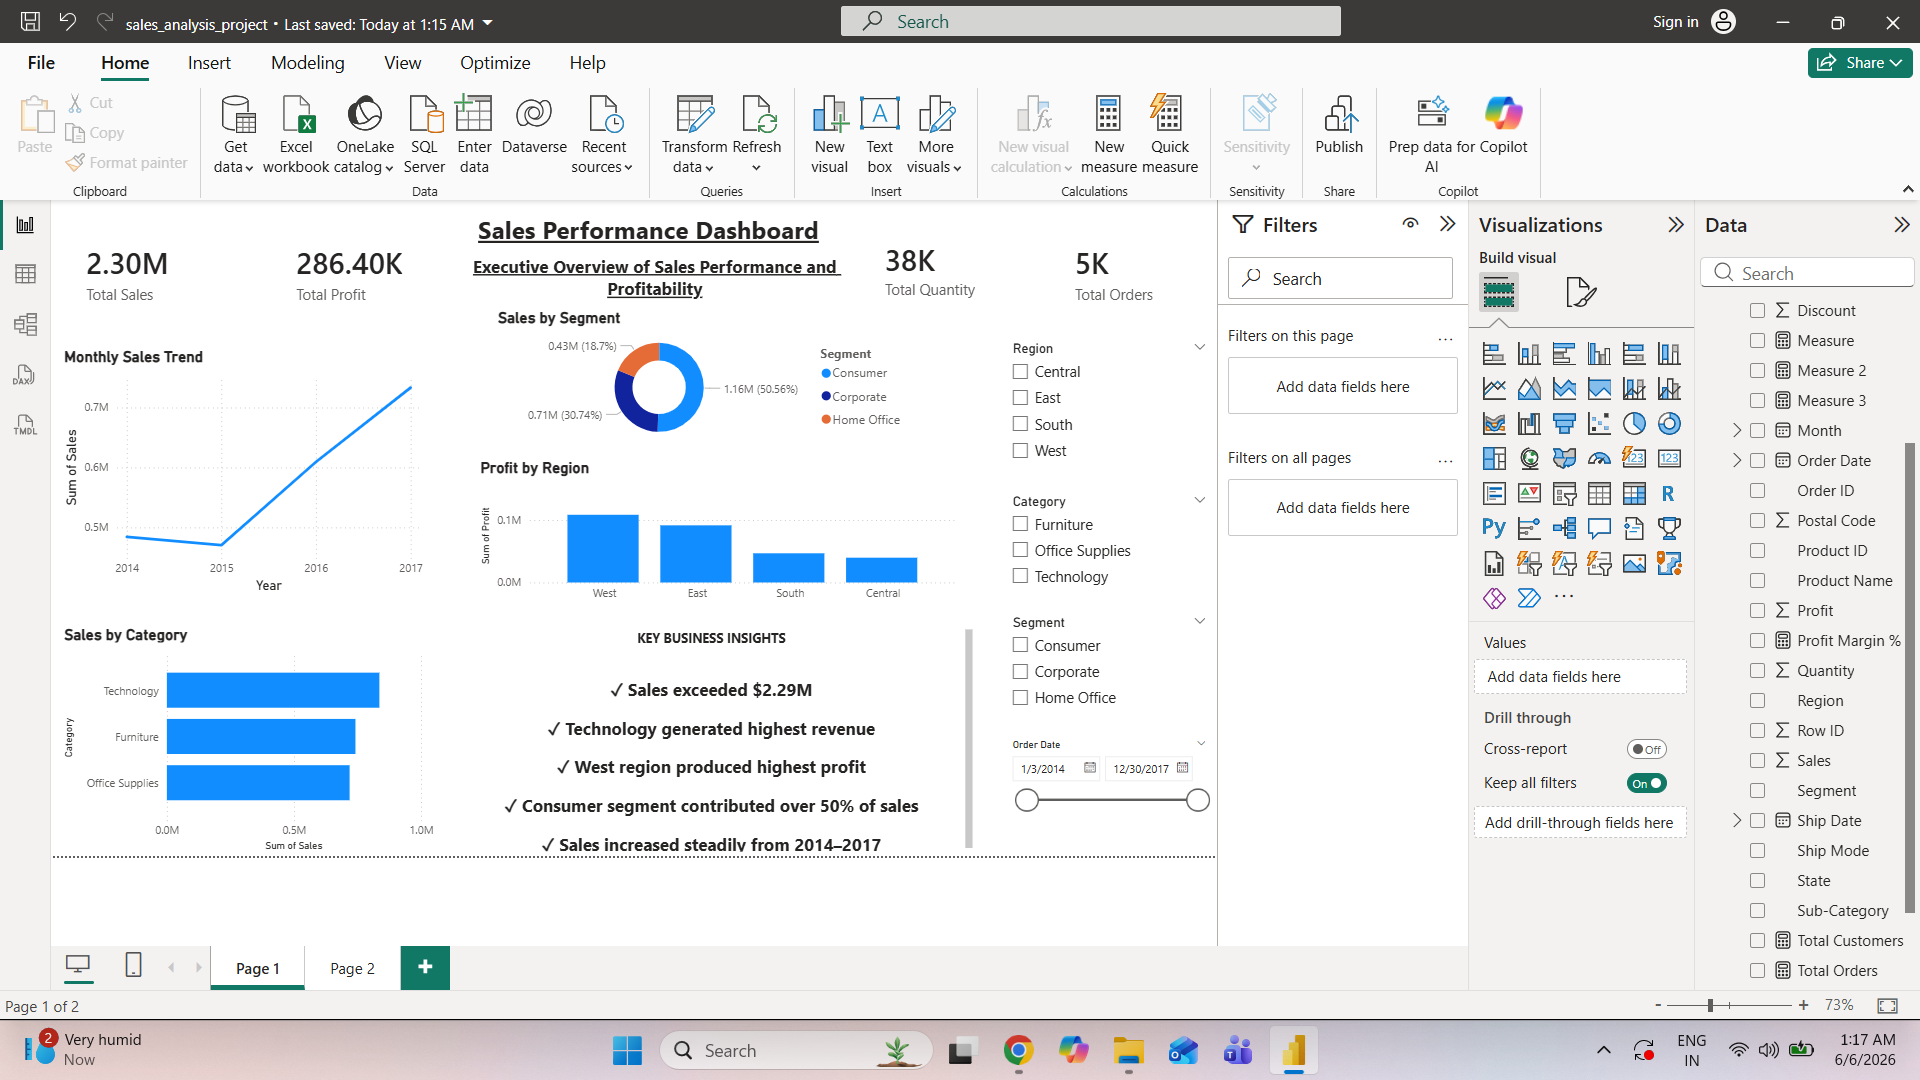

The dashboard page shown, as its layout file describes it:
{"tool":"powerbi","page":{"name":"Page 1","canvas":[1280,720],"ordinal":0},"visuals":[{"type":"cardVisual","fields":{"Data":["cleaned_sales_data.Total Sales"]},"box":[9.6,0,185.2,161.9],"z":0},{"type":"cardVisual","fields":{"Data":["cleaned_sales_data.Total Profit"]},"box":[240.1,0,185.2,161.9],"z":1000},{"type":"cardVisual","fields":{"Data":["cleaned_sales_data.Total Quantity"]},"box":[886.5,9.6,179.8,133.1],"z":2000},{"type":"cardVisual","fields":{"Data":["cleaned_sales_data.Total Orders"]},"box":[1095,0,185.2,161.9],"z":3000},{"type":"textbox","box":[425.4,9.6,461.1,65.9],"z":4000},{"type":"lineChart","title":"Monthly Sales Trend","fields":{"Category":["cleaned_sales_data.Order Date.Variation.Date Hierarchy.Year","cleaned_sales_data.Order Date.Variation.Date Hierarchy.Quarter","cleaned_sales_data.Order Date.Variation.Date Hierarchy.Month","cleaned_sales_data.Order Date.Variation.Date Hierarchy.Day"],"Y":["Sum(cleaned_sales_data.Sales)"]},"box":[9.6,161.9,403.4,274.4],"z":5000},{"type":"clusteredBarChart","title":"Sales by Category","fields":{"Category":["cleaned_sales_data.Category"],"Y":["Sum(cleaned_sales_data.Sales)"]},"box":[9.6,466.6,415.8,253.9],"z":6000},{"type":"columnChart","title":"Profit by Region","fields":{"Y":["Sum(cleaned_sales_data.Profit)"],"Category":["cleaned_sales_data.Region"]},"box":[466.6,284,533.8,166],"z":7000},{"type":"donutChart","title":"Sales by Segment","fields":{"Y":["Sum(cleaned_sales_data.Sales)"],"Category":["cleaned_sales_data.Segment"]},"box":[485.8,119.4,461.1,153.7],"z":8000},{"type":"slicer","fields":{"Values":["cleaned_sales_data.Region"]},"box":[1042.9,149.6,237.4,149.6],"z":9000},{"type":"slicer","fields":{"Values":["cleaned_sales_data.Order Date"]},"box":[1042.9,585.9,237.4,134.5],"z":10000},{"type":"slicer","fields":{"Values":["cleaned_sales_data.Category"]},"box":[1042.9,317,237.4,119.4],"z":11000},{"type":"slicer","fields":{"Values":["cleaned_sales_data.Segment"]},"box":[1042.9,450.1,237.4,135.8],"z":12000},{"type":"textbox","box":[440.5,466.6,576.3,253.9],"z":13000},{"type":"textbox","box":[413,54.9,499.5,64.5],"z":14000}]}

Visuals, with their boxes on the page's 1280x720 design canvas (x1, y1, x2, y2). These are canvas units, not pixel positions in the 1920x1080 screenshot, which may show the page scaled, cropped or inside an application window:
cardVisual - cleaned_sales_data.Total Sales: <region>10, 0, 195, 162</region>
cardVisual - cleaned_sales_data.Total Profit: <region>240, 0, 425, 162</region>
cardVisual - cleaned_sales_data.Total Quantity: <region>886, 10, 1066, 143</region>
cardVisual - cleaned_sales_data.Total Orders: <region>1095, 0, 1280, 162</region>
textbox: <region>425, 10, 886, 76</region>
"Monthly Sales Trend" lineChart: <region>10, 162, 413, 436</region>
"Sales by Category" clusteredBarChart: <region>10, 467, 425, 720</region>
"Profit by Region" columnChart: <region>467, 284, 1000, 450</region>
"Sales by Segment" donutChart: <region>486, 119, 947, 273</region>
slicer - cleaned_sales_data.Region: <region>1043, 150, 1280, 299</region>
slicer - cleaned_sales_data.Order Date: <region>1043, 586, 1280, 720</region>
slicer - cleaned_sales_data.Category: <region>1043, 317, 1280, 436</region>
slicer - cleaned_sales_data.Segment: <region>1043, 450, 1280, 586</region>
textbox: <region>440, 467, 1017, 720</region>
textbox: <region>413, 55, 912, 119</region>
